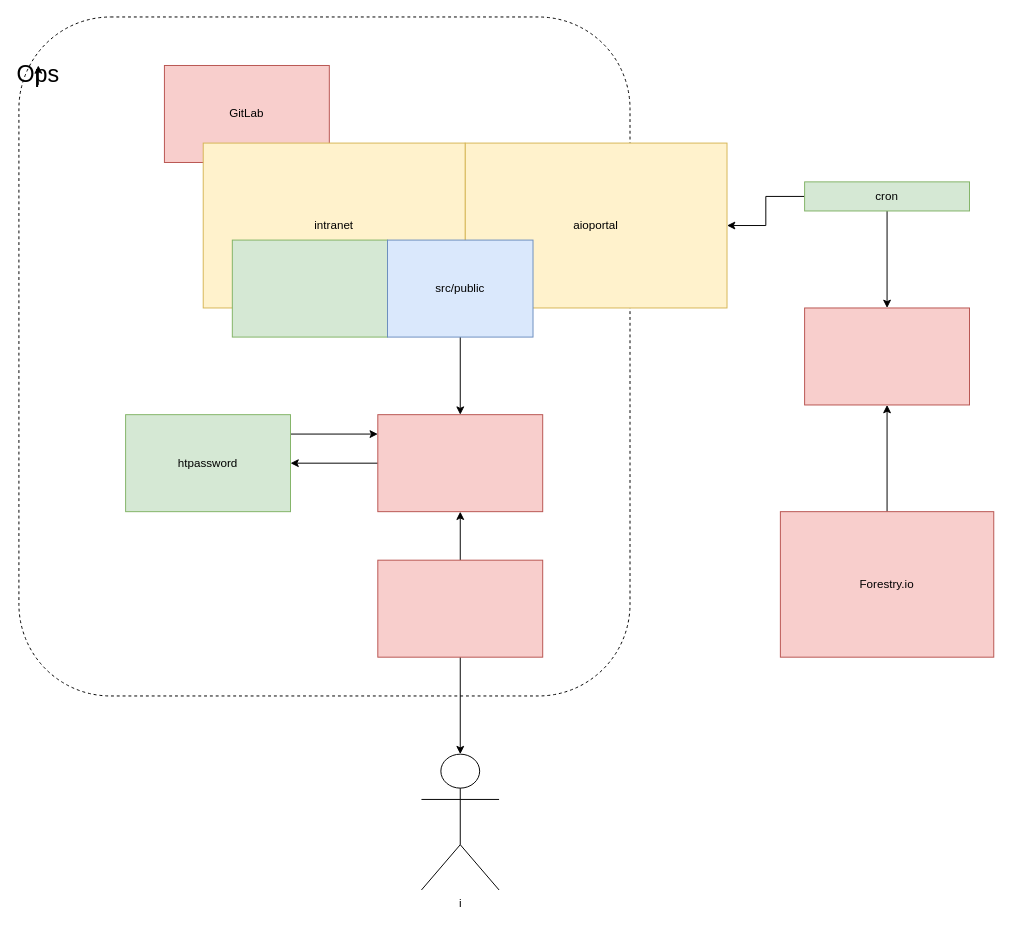
Image size: 1011x927. Some labels were removed from this diagram. Here are the shapes that lost their labels. From the top down, the centre of each, then its label:
the point at 309,288: Hook
the point at 887,356: GitHub
the point at 460,463: NGinx
the point at 460,608: Traeffik
